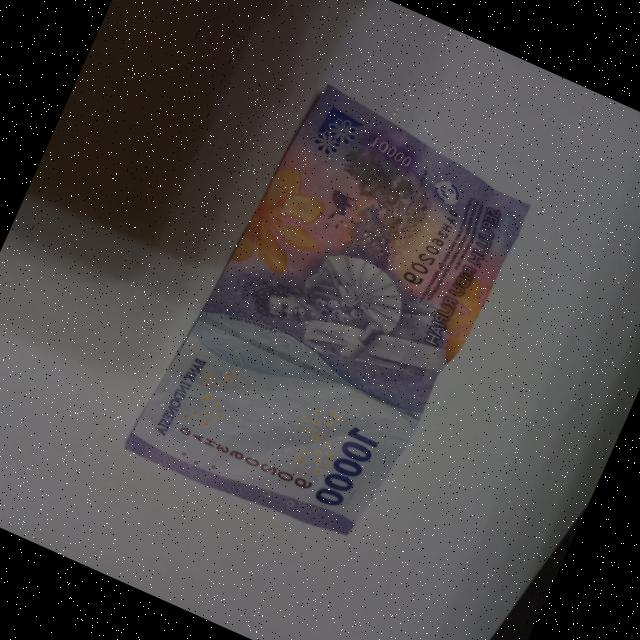10K: (97, 52, 567, 582)
